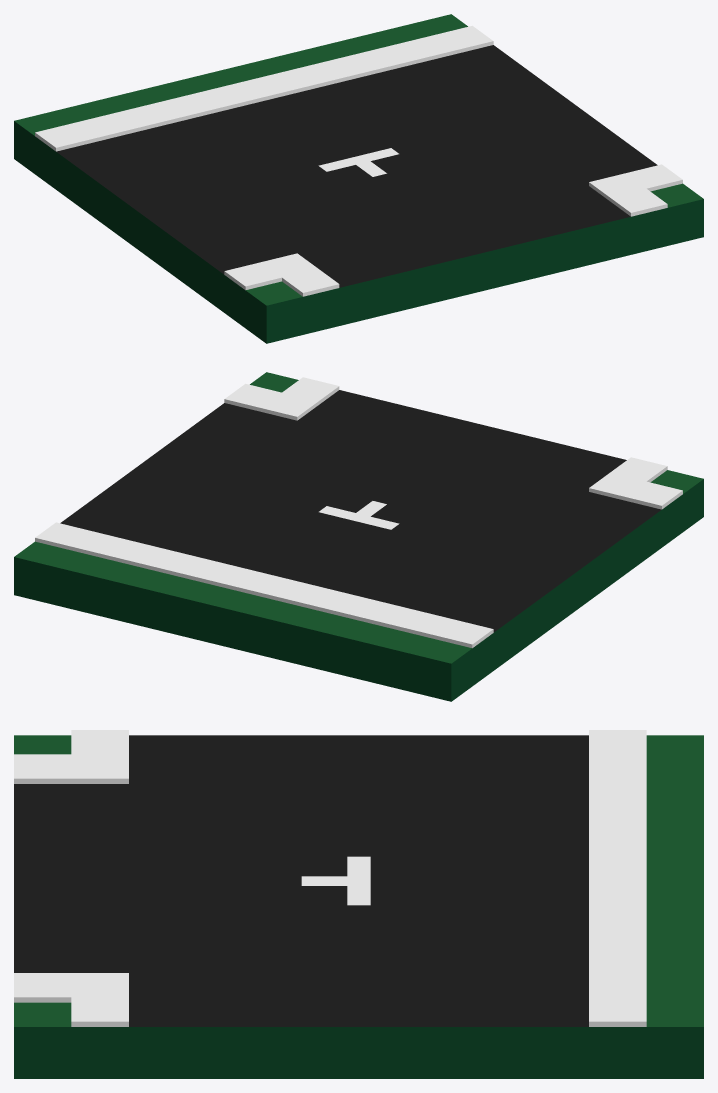
The model's file is T intersection.obj.
3 renders of one model, top to bottom at view 1: azimuth 30°, elevation 25°; view 2: azimuth 150°, elevation 25°; view 3: azimuth 270°, elevation 25°, orthographic. The views are drawn at different scales.
Visible parts, largest first — view 1: t-intersection_Cube.045; view 2: t-intersection_Cube.045; view 3: t-intersection_Cube.045.
Boxes of the visible parts, left/top/right/bottom form: t-intersection_Cube.045: left=14, top=14, right=703, bottom=343; t-intersection_Cube.045: left=14, top=372, right=703, bottom=701; t-intersection_Cube.045: left=14, top=730, right=703, bottom=1078.
Size of the model in its own units: 12 by 1.1 by 12.
Materials: 1 (1 with a texture image).
